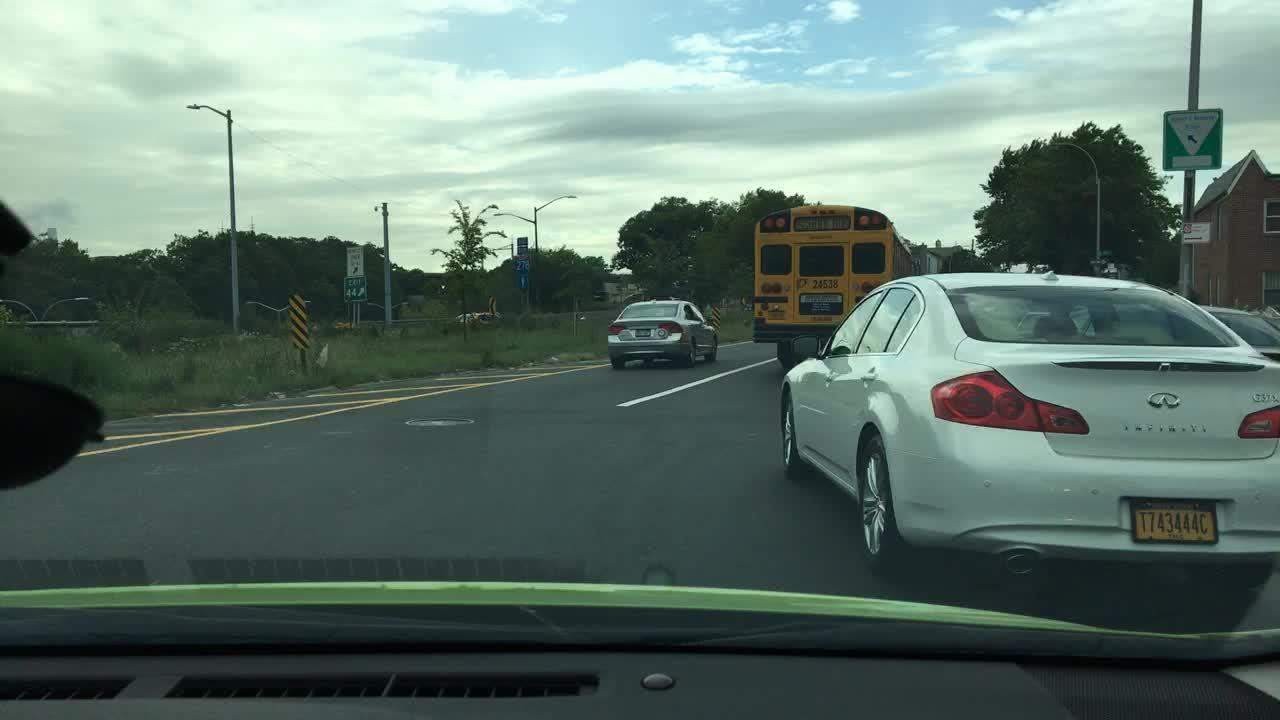Infiniti: (1146, 387, 1184, 415)
